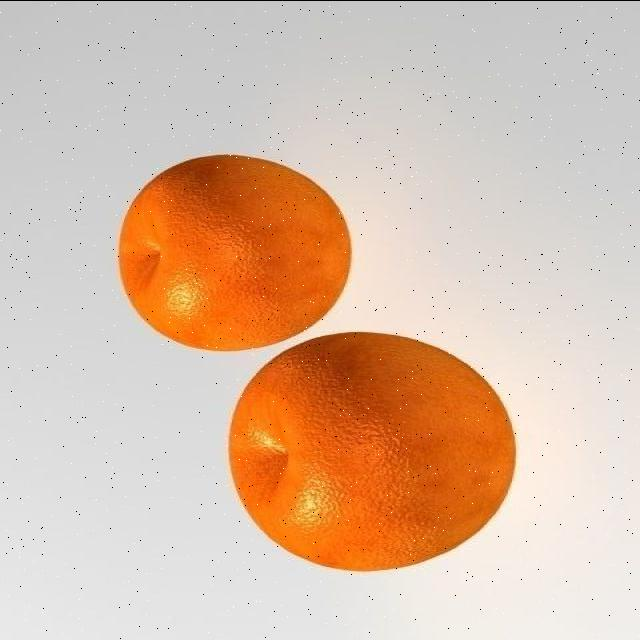Orange: (226, 331, 516, 572), (115, 153, 351, 352)
